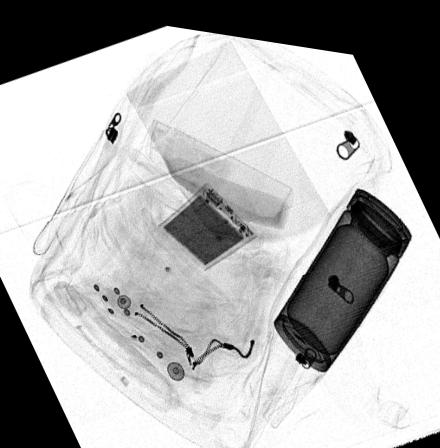Powerbank: (155, 176, 258, 266)
